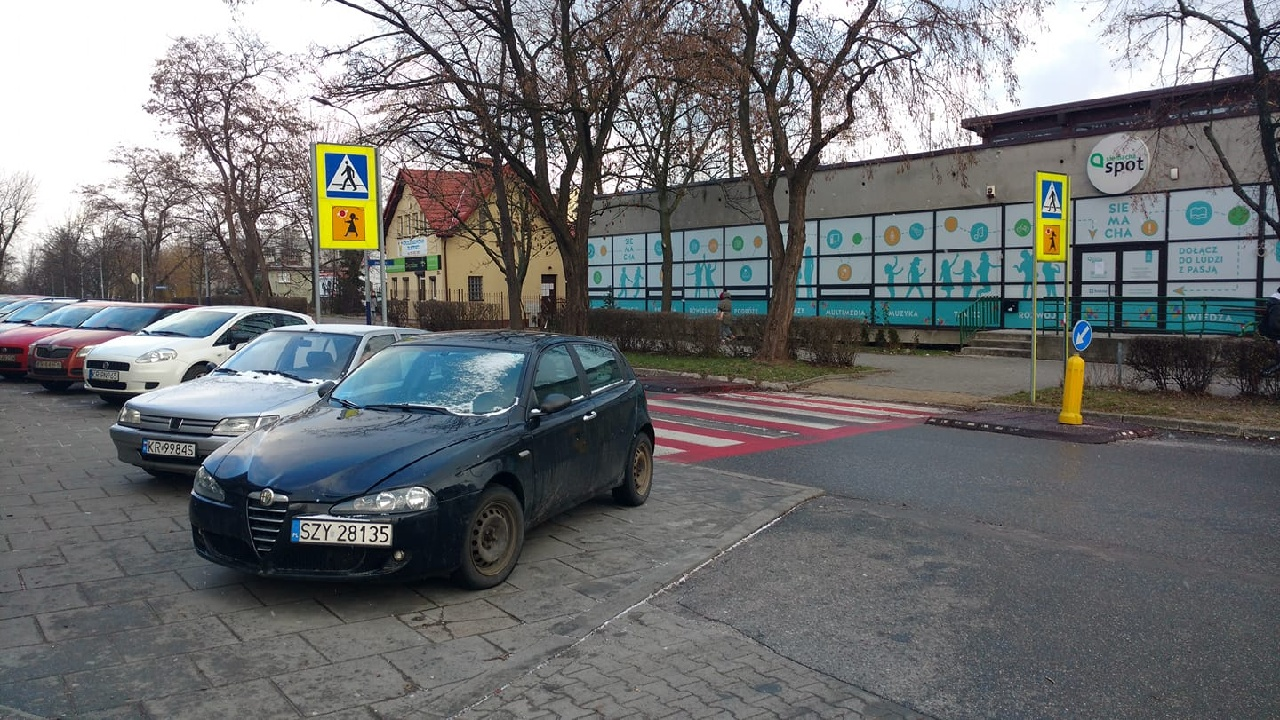D6: (323, 150, 370, 200), (1039, 175, 1065, 215)
